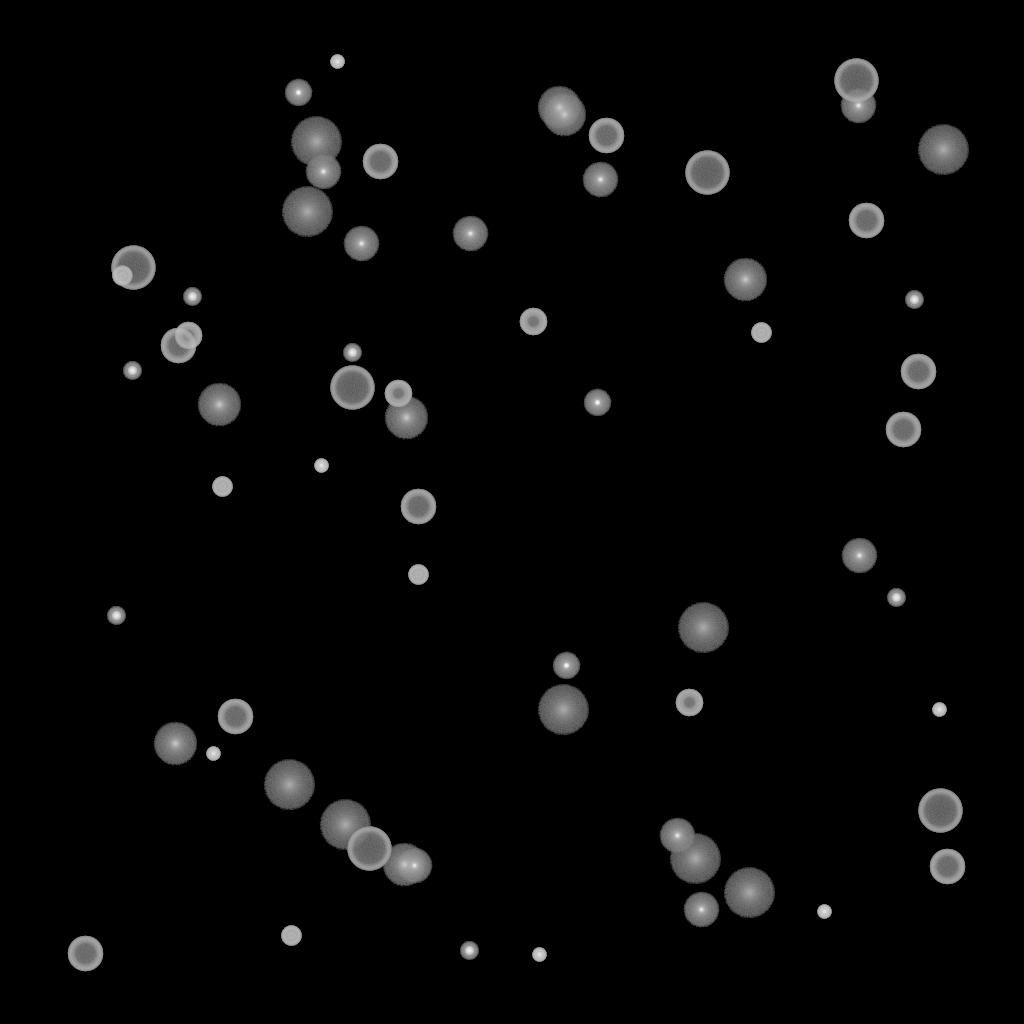depth:-10: (583, 389, 611, 417), (284, 79, 312, 107), (552, 652, 580, 680)
depth:-20: (887, 589, 905, 607), (183, 288, 201, 306), (343, 344, 361, 362), (460, 942, 478, 960), (107, 607, 125, 625), (123, 362, 141, 380), (905, 291, 923, 309)
depth:-30: (932, 703, 946, 717), (817, 905, 831, 919), (330, 55, 344, 69), (206, 747, 220, 761), (532, 948, 546, 962), (314, 459, 328, 473)
depth:-40: (212, 477, 232, 497), (112, 266, 132, 286), (751, 323, 771, 343), (408, 565, 428, 585), (281, 926, 301, 946)
depth:-50: (519, 308, 547, 336), (174, 322, 202, 350), (384, 380, 412, 408), (675, 689, 703, 717)
depth:-60: (848, 203, 884, 239), (885, 412, 921, 448), (67, 936, 103, 972), (588, 118, 624, 154), (362, 144, 398, 180), (217, 699, 253, 735), (160, 328, 196, 364), (929, 849, 965, 885), (400, 489, 436, 525), (900, 354, 936, 390)
depth:-70: (685, 151, 729, 195), (111, 246, 155, 290), (834, 59, 878, 103), (918, 789, 962, 833), (330, 366, 374, 410), (347, 827, 391, 871)
depth:0: (841, 538, 877, 574), (659, 818, 695, 854), (396, 848, 432, 884), (582, 162, 618, 198), (343, 226, 379, 262), (840, 88, 876, 124), (683, 892, 719, 928), (305, 154, 341, 190), (452, 216, 488, 252)
depth:10: (542, 93, 586, 137), (723, 258, 767, 302), (197, 383, 241, 427), (384, 396, 428, 440), (537, 86, 581, 130), (382, 843, 426, 887), (153, 722, 197, 766)
depth:20: (537, 685, 589, 735), (723, 868, 775, 918), (669, 834, 721, 884), (319, 800, 371, 850), (290, 117, 342, 167), (677, 603, 729, 653), (263, 760, 315, 810), (281, 187, 333, 237), (917, 125, 969, 175)
